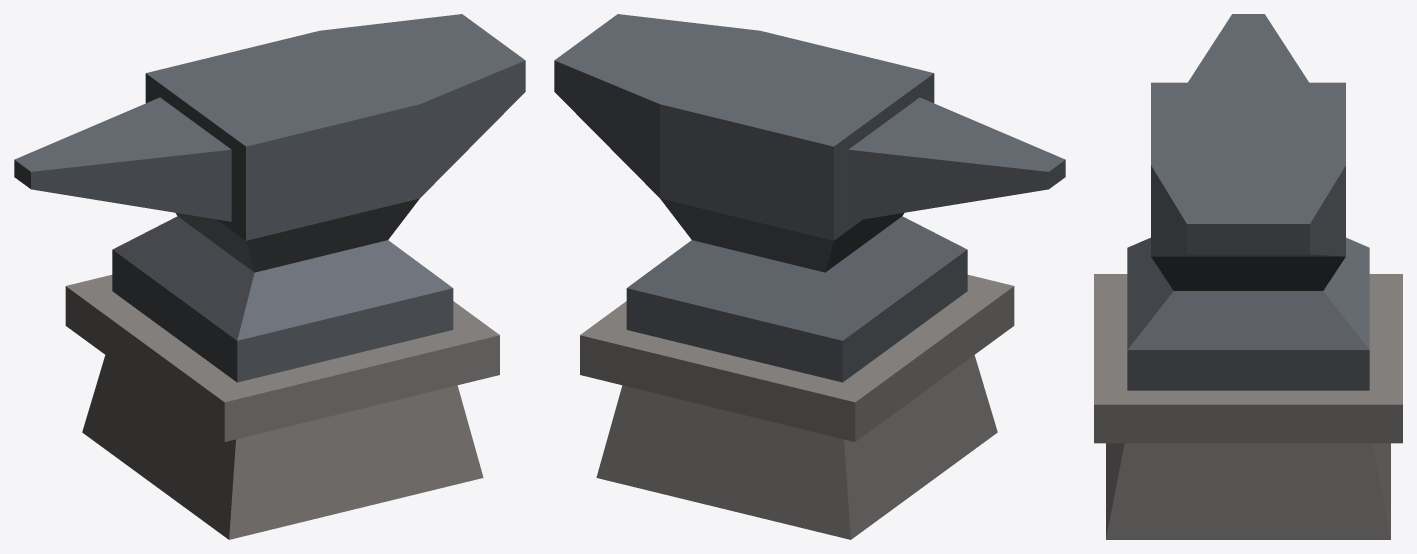
File: Anvil.gltf
3 renders of one model, left to right at view 1: azimuth 30°, elevation 25°; view 2: azimuth 150°, elevation 25°; view 3: azimuth 270°, elevation 25°, orthographic. The views are drawn at different scales.
Parts seen in each view (by area): view 1: SF_Prop_Anvil_01; view 2: SF_Prop_Anvil_01; view 3: SF_Prop_Anvil_01.
Boxes of the visible parts, x1,y1,x2,y2 form: SF_Prop_Anvil_01: (14, 14, 525, 539); SF_Prop_Anvil_01: (554, 14, 1065, 539); SF_Prop_Anvil_01: (1094, 14, 1402, 539).
Bounding box in the file's own units: 0.0188 × 0.0139 × 0.011.
1 material, 1 textured.
